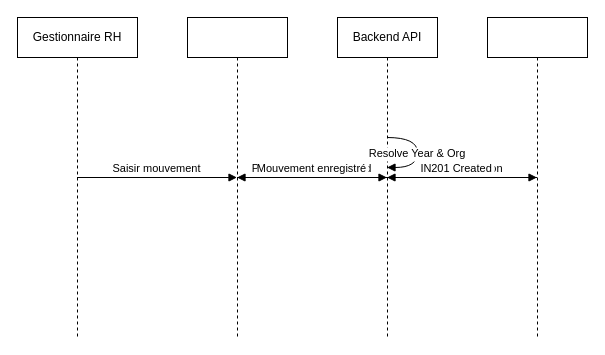
This 605x355 diagram has some shape labels left out. Here are the shapes that lost their labels. From the top down, the box of each, then its label:
(186, 16, 288, 338): Angular App
(486, 16, 588, 338): SQL Server
